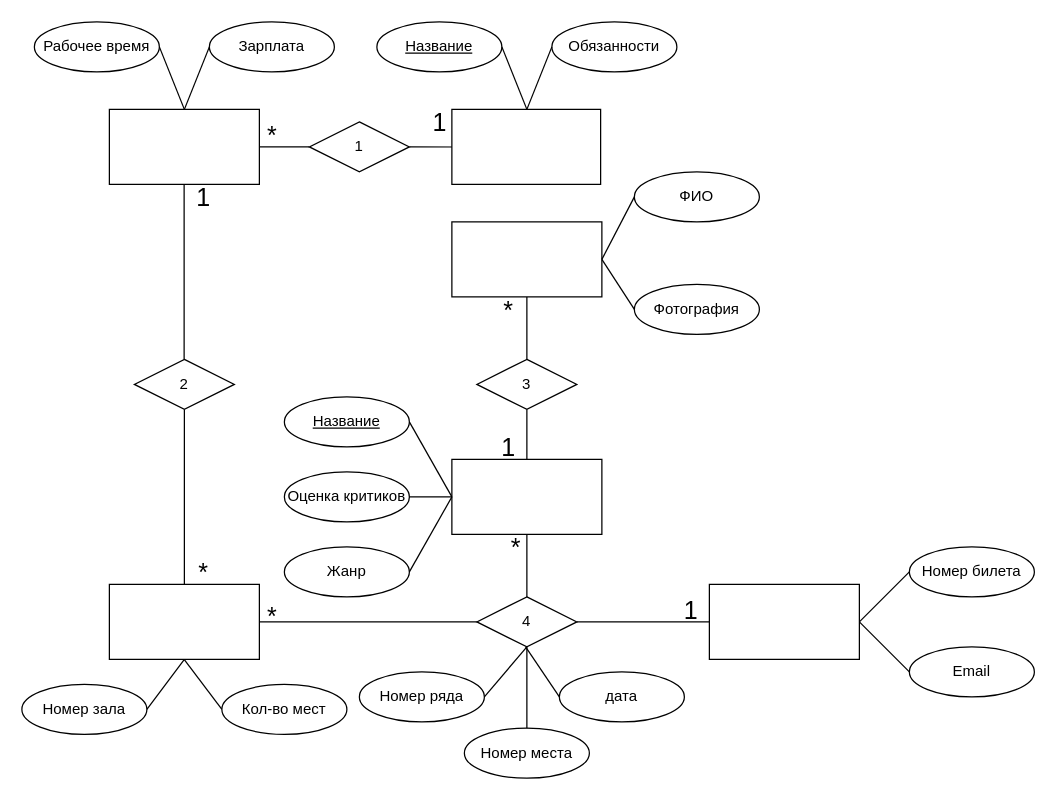
Image size: 1056x800. Some labels were removed from this diagram. The centre of each missing label's shape, as x and y in pixels:
"Актёрский состав" belongs at [526,259].
"Должность" belongs at [526,146].
"Кинозал" belongs at [183,621].
"Клиент" belongs at [783,621].
"Сотрудник" belongs at [183,146].
"Фильм" belongs at [526,496].
